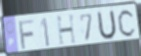1: (40, 16, 51, 48)
7: (79, 13, 94, 43)
C: (117, 8, 137, 38)
F: (18, 18, 36, 50)
H: (55, 13, 78, 47)
U: (97, 9, 118, 42)
